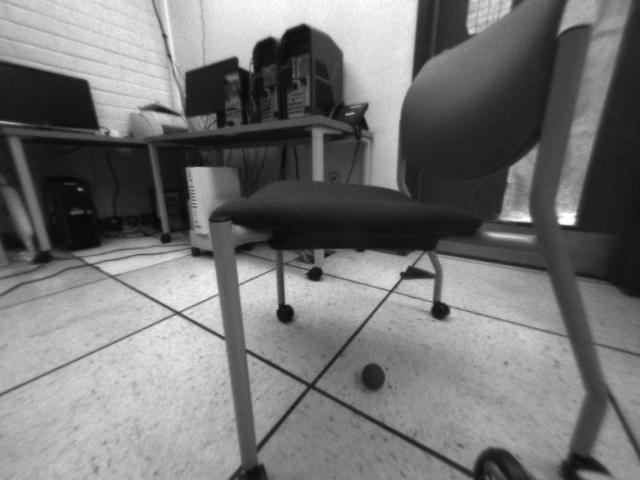dogtoy: (355, 358, 391, 397)
